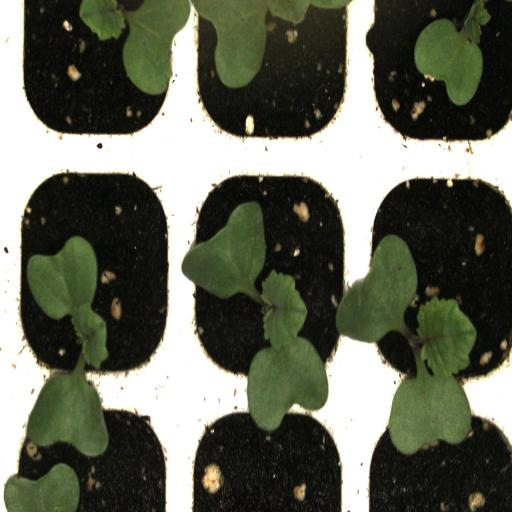seedling: (184, 157, 359, 396), (6, 155, 182, 389), (361, 158, 512, 399), (359, 0, 512, 155)
